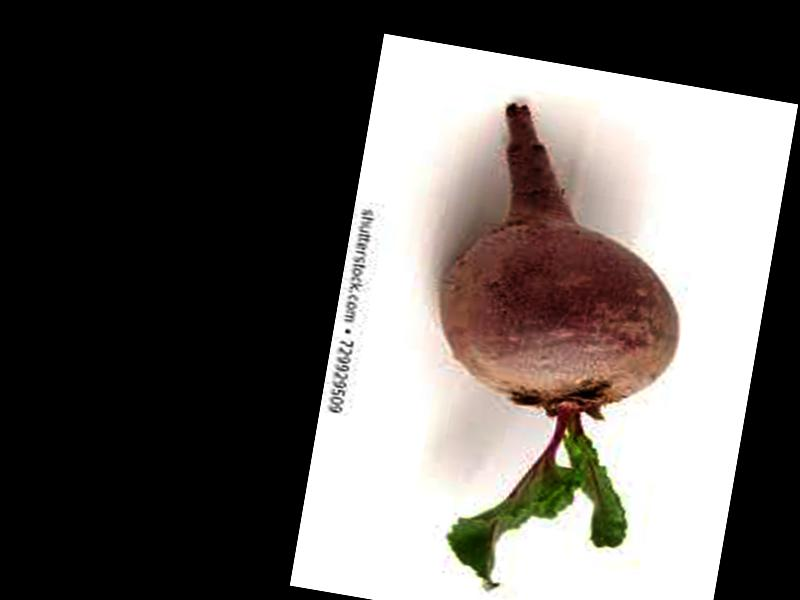Beet: (394, 100, 710, 600)
